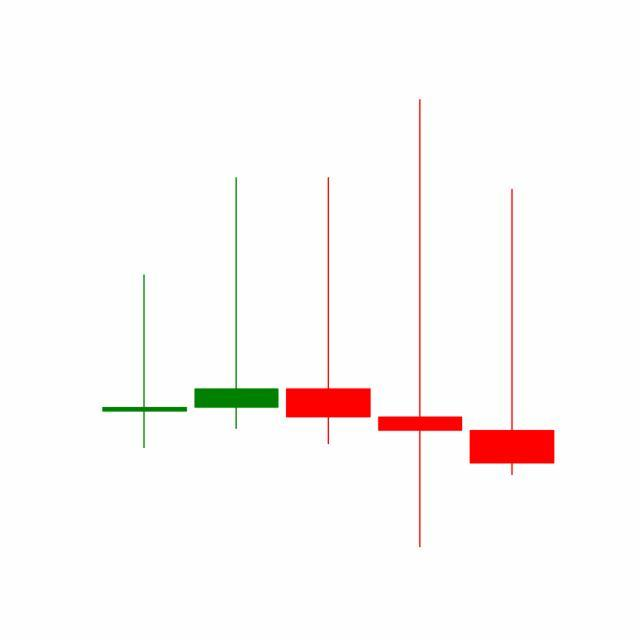Spinning Top: (374, 95, 468, 553)
